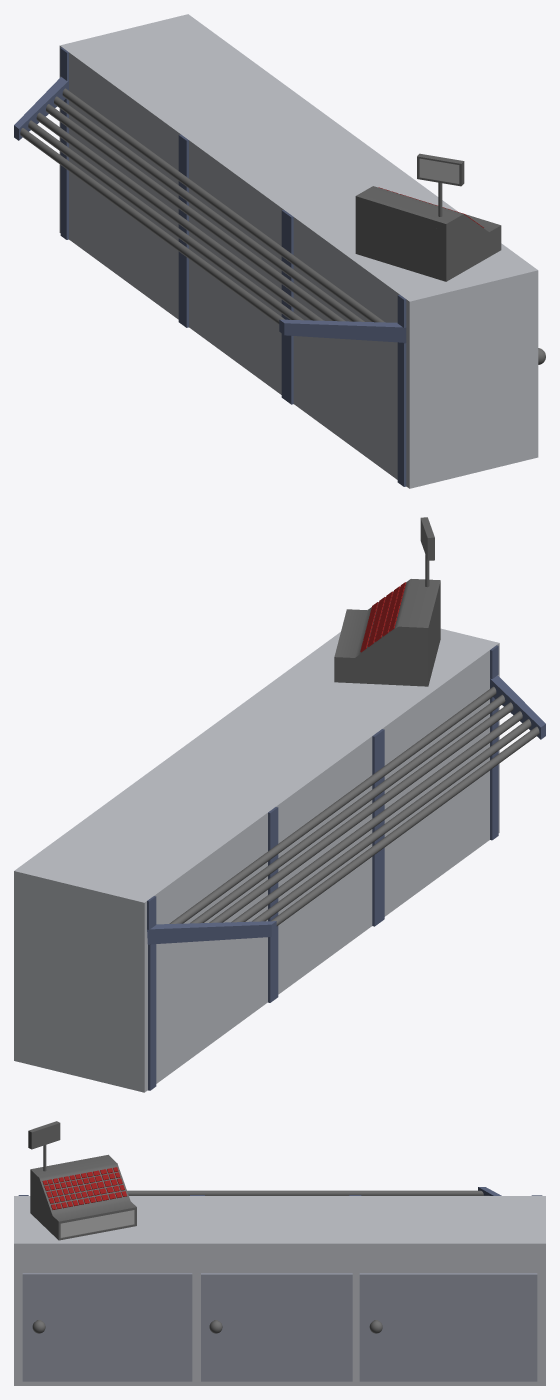
File: ComptoirCaisse_02.fbx
3 renders of one model, top to bottom at view 1: azimuth 30°, elevation 25°; view 2: azimuth 150°, elevation 25°; view 3: azimuth 270°, elevation 25°, orthographic. The views are drawn at different scales.
Visible parts, largest first — view 1: ComptoirCaisse03; view 2: ComptoirCaisse03; view 3: ComptoirCaisse03, Porte03, Porte01, Porte02.
Boxes of the visible parts, x1,y1,x2,y2 form: ComptoirCaisse03: [14, 14, 538, 488]; ComptoirCaisse03: [14, 517, 545, 1092]; ComptoirCaisse03: [14, 1121, 545, 1385]; Porte03: [359, 1273, 537, 1381]; Porte01: [22, 1273, 192, 1381]; Porte02: [201, 1273, 352, 1381].
Bounding box in the file's own units: 6.23 × 7.6 × 15.92.
